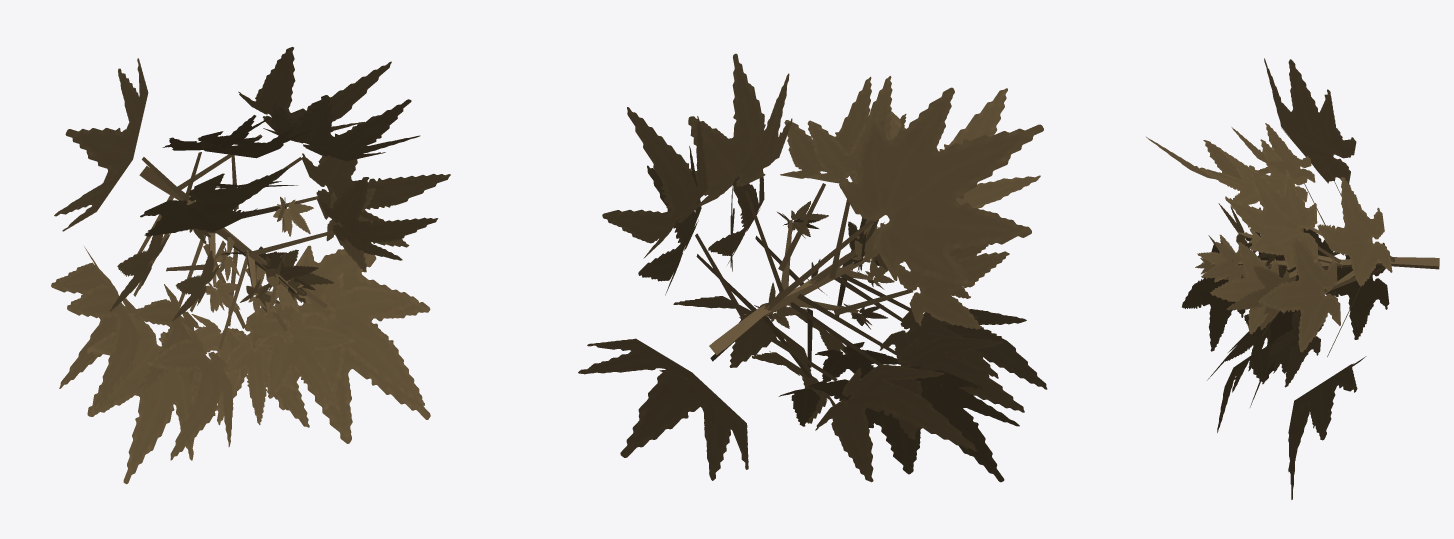
Rendered from p_hybrid_vegetative_c3_cards.obj.
3 views of the same model, side by side, from view 1: azimuth 30°, elevation 25°; view 2: azimuth 150°, elevation 25°; view 3: azimuth 270°, elevation 25° (orthographic). The views are drawn at different scales.
Size of the model in its own units: 1.37 by 1.34 by 0.905.
Materials: 1 (1 with a texture image).
